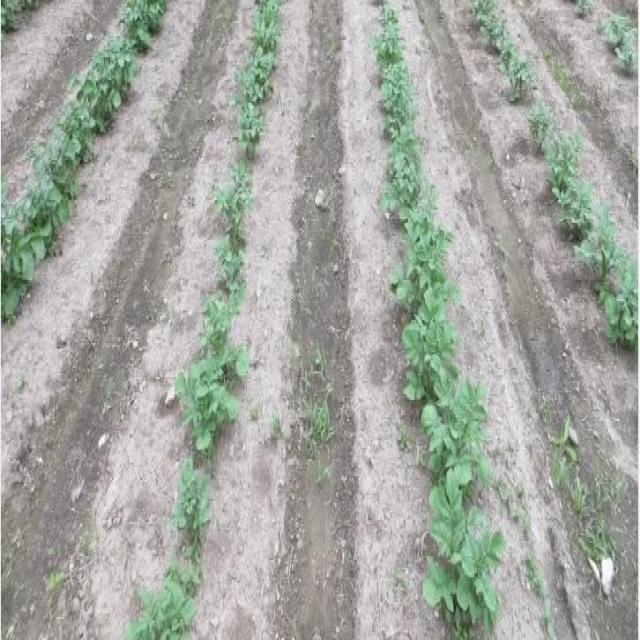row: (0, 2, 253, 640), (193, 2, 441, 640), (398, 0, 639, 640), (501, 2, 640, 259), (0, 0, 126, 207)
